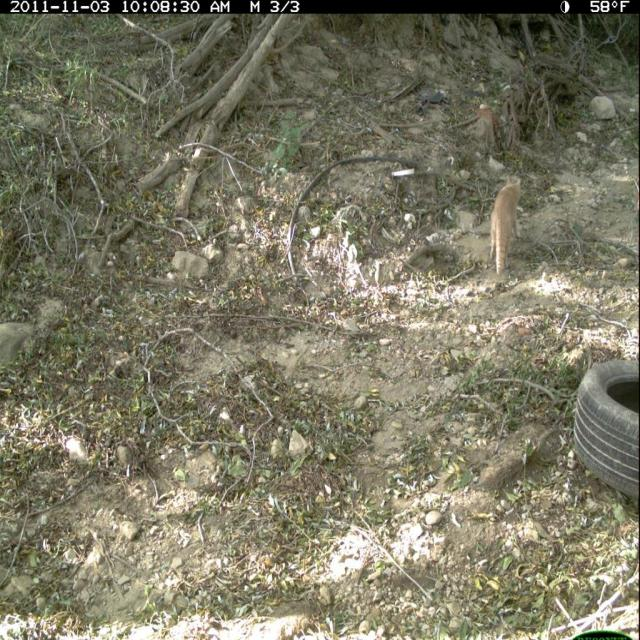cat: (480, 168, 538, 288)
